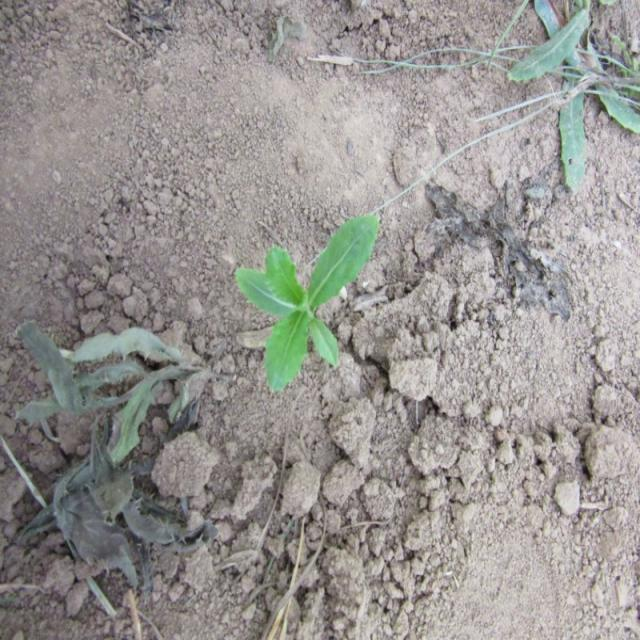cs: (234, 208, 389, 401)
